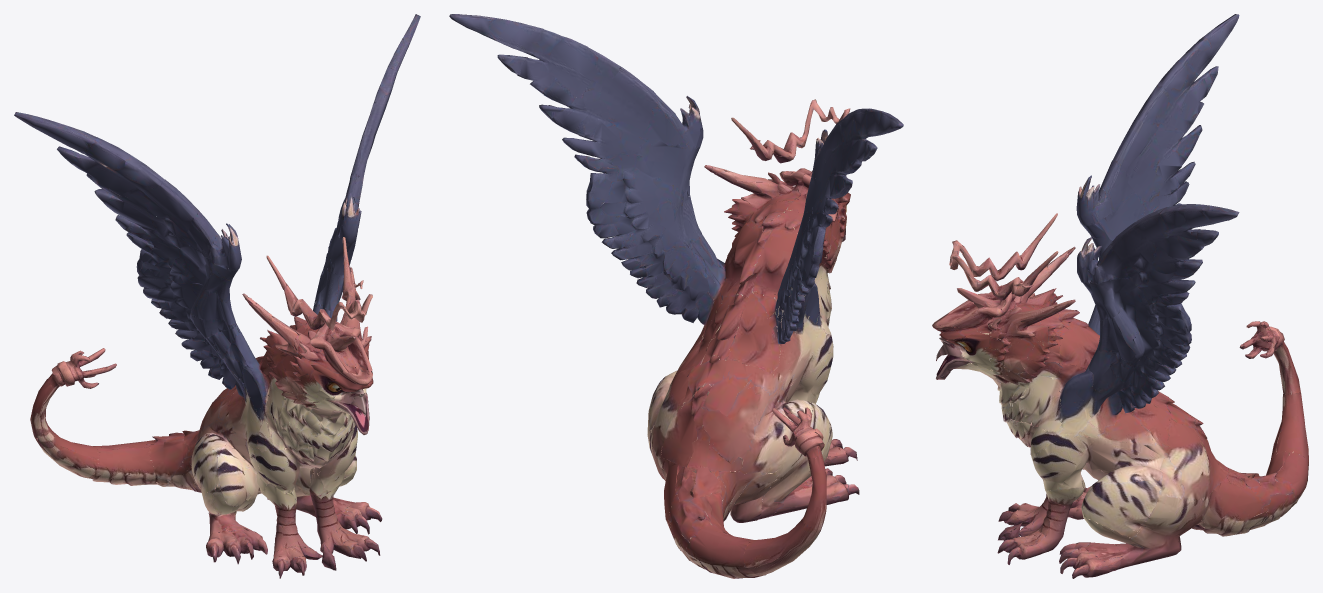
3 renders of one model, left to right at view 1: azimuth 30°, elevation 25°; view 2: azimuth 150°, elevation 25°; view 3: azimuth 270°, elevation 25°, orthographic. The views are drawn at different scales.
Visible parts, largest first — view 1: Mesh_0; view 2: Mesh_0; view 3: Mesh_0.
Boxes of the visible parts, box(x1,y1,x2,y2) form: Mesh_0: box(14, 14, 420, 578); Mesh_0: box(449, 14, 903, 578); Mesh_0: box(932, 14, 1308, 578).
Bounding box in the file's own units: 1.89 × 1.88 × 1.5.
1 material, 1 textured.
